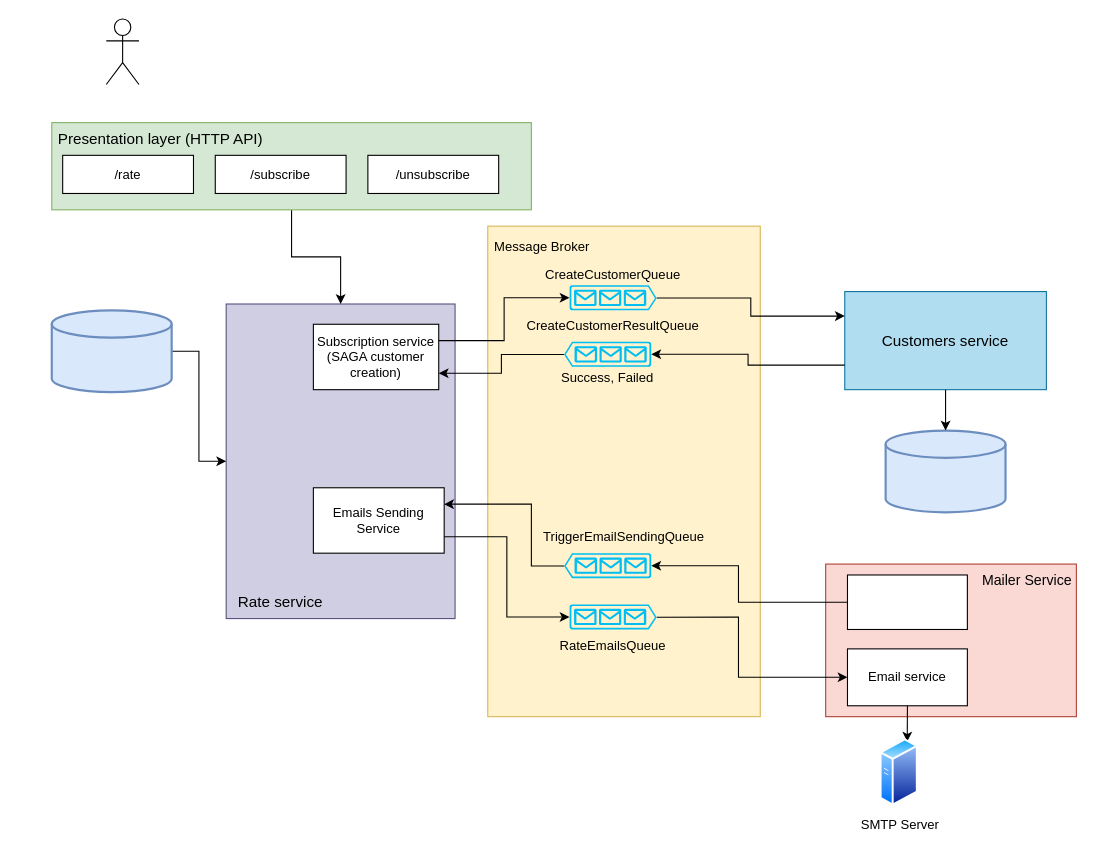
Some shapes in this 1095 by 851 pixel diagram are drawn without their labels. The box of each missing label's shape, as (x1, y1, x2, y2) in pixels:
Client: (105, 18, 139, 84)
Customers DB: (884, 429, 1006, 513)
Scheduled Trigger (CRON): (846, 574, 967, 629)
Subscriptions DB: (50, 309, 172, 393)
